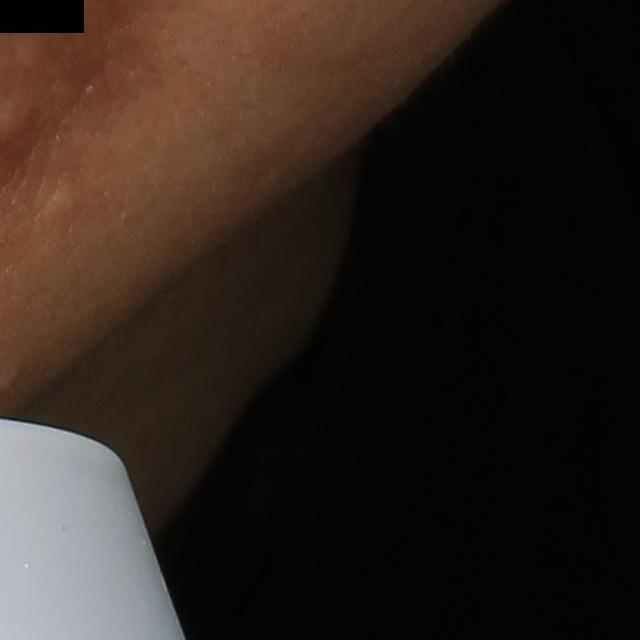hypertrophic_scar: (41, 179, 80, 228)
